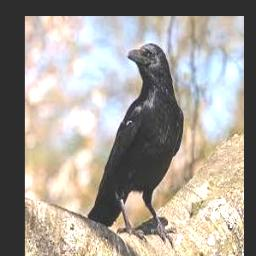Crow: (87, 43, 184, 246)
